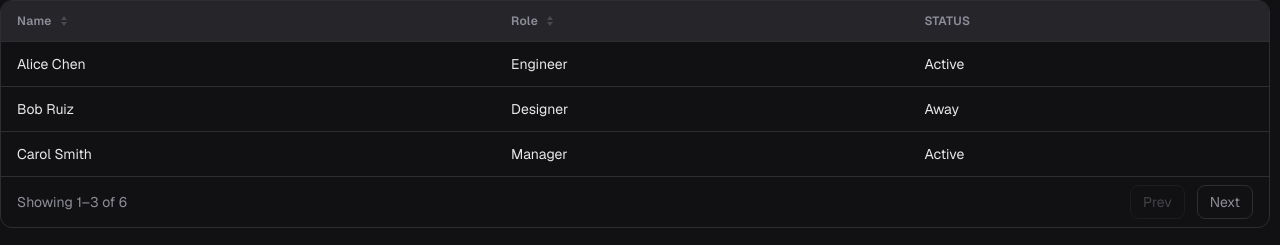
DataTable › pagination › pagination resets to page 1 after sorting
Click the button with aria-label "go to next page".
click(1225, 202)  # box 1197,185 -> 1253,219
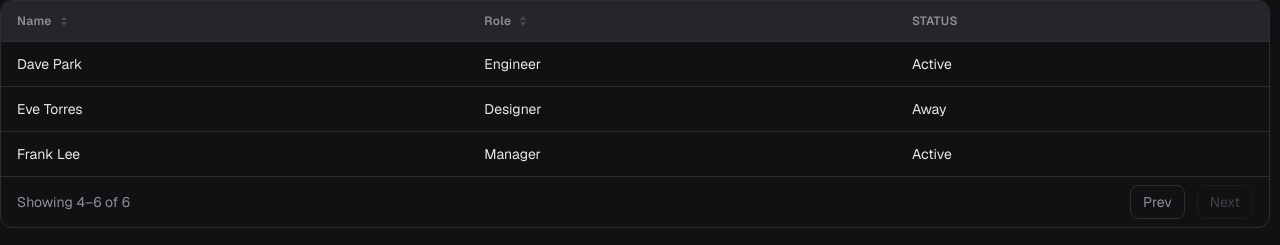
Expected: the text "Dave Park" is shown, 1,42 -> 468,86
Click the button "Name".
click(43, 21)  # box 17,13 -> 70,29
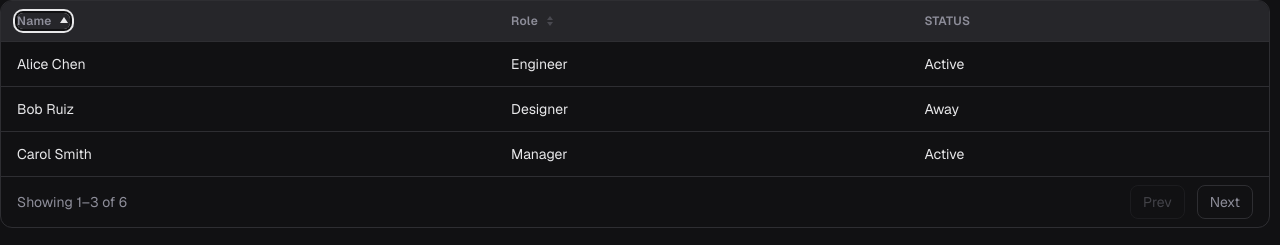
Expected: the text "Alice Chen" is shown, 1,42 -> 495,86
Expected: the text "Dave Park" is gone
